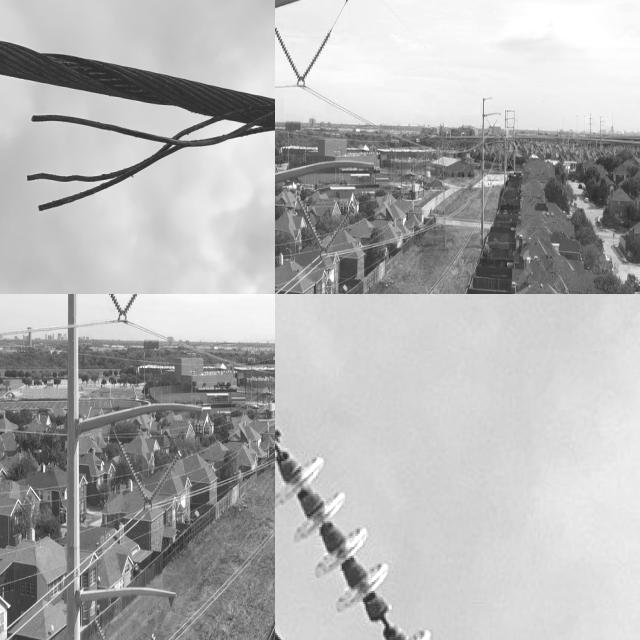杆塔: (275, 0, 384, 294), (469, 99, 502, 253)
正常绝缘子: (275, 411, 447, 640), (290, 17, 340, 95), (140, 441, 190, 516), (290, 184, 335, 267), (113, 429, 154, 515), (317, 189, 360, 267), (275, 18, 306, 90), (113, 294, 143, 333), (87, 605, 112, 640), (106, 294, 129, 326), (143, 623, 164, 640)
电缆破损: (17, 82, 275, 232)
绝缘子破损: (361, 600, 406, 640)
